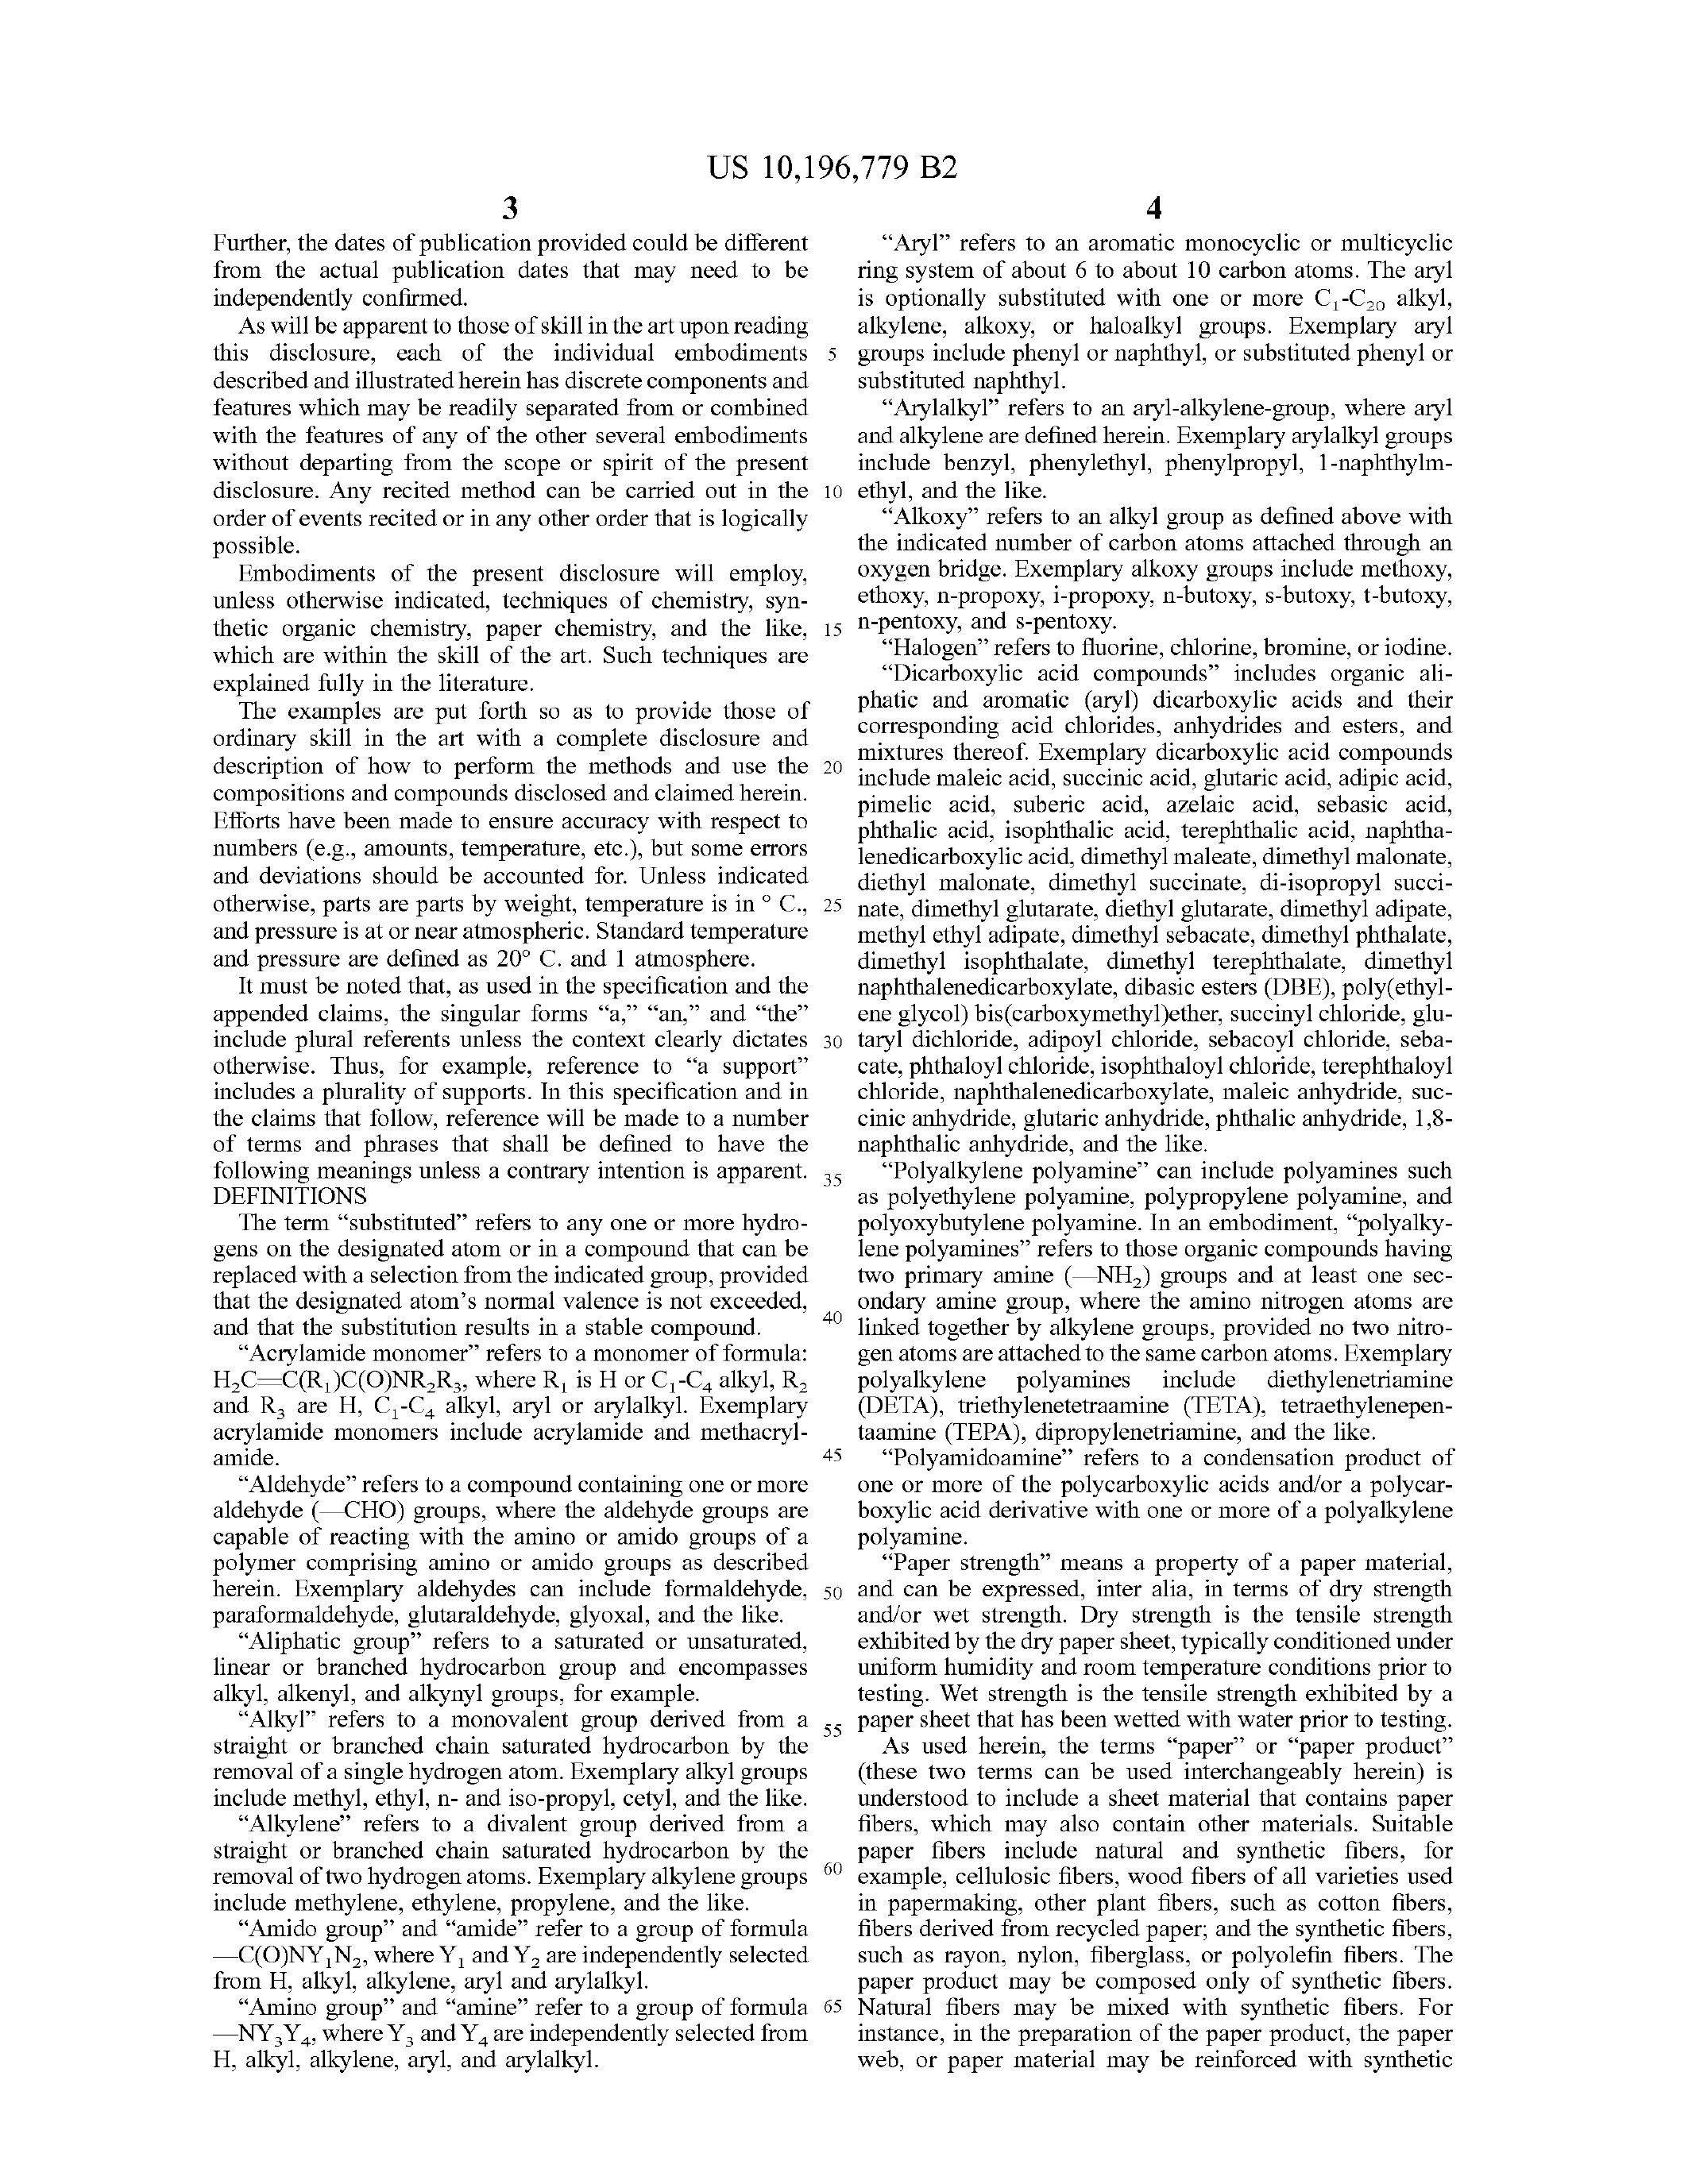substitutes: (842, 209, 1466, 626), (195, 1817, 812, 2071)
